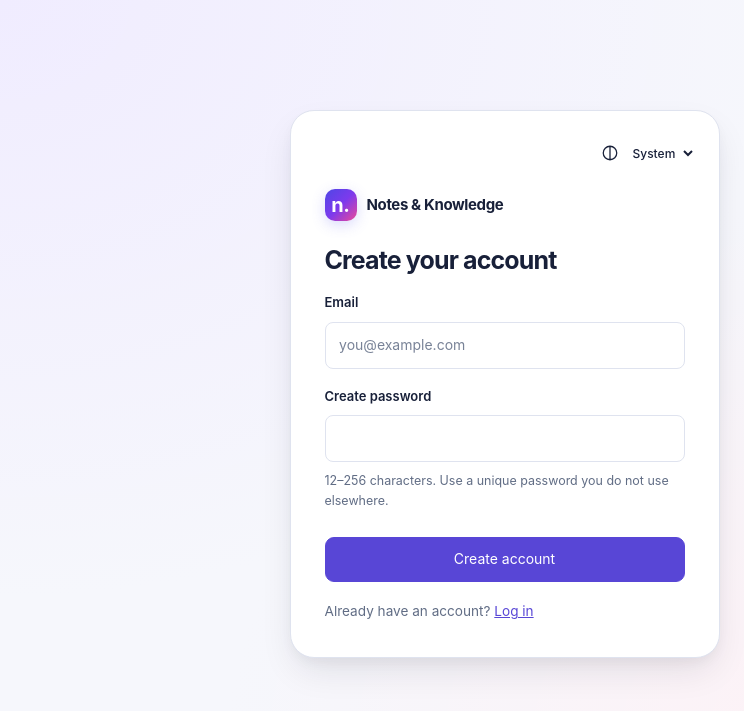
it: authentication browser journey › explains the password policy and blocks a short password before registration
expect the heading "Create your account" is shown: met, box [324,245,556,275]
expect the text "12–256 characters" is shown: met, box [324,473,669,508]
Type "person@example.test" into the field labelled "Email" at (504, 345), box [324,322,684,369]
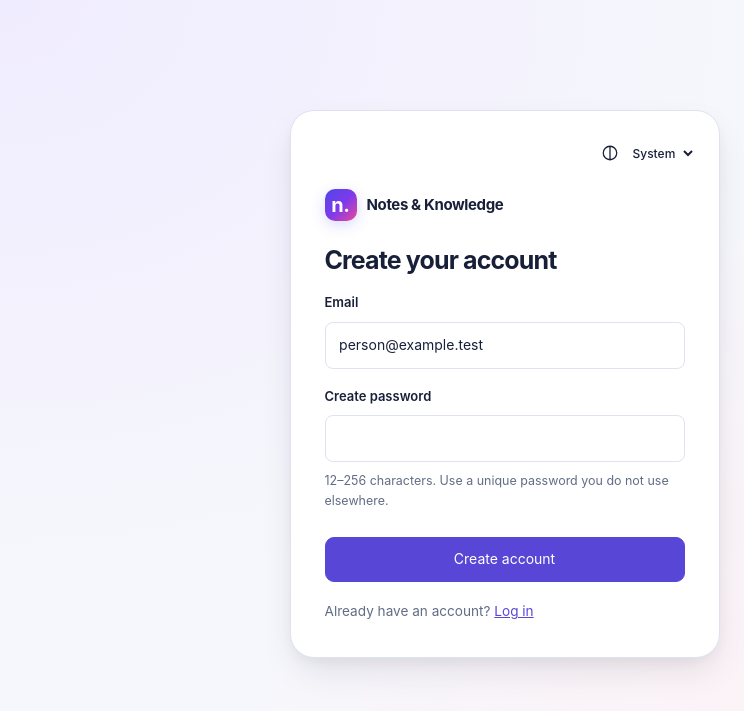
Type "short" into the password field labelled "Create password" at (504, 439), box [324,415,684,462]
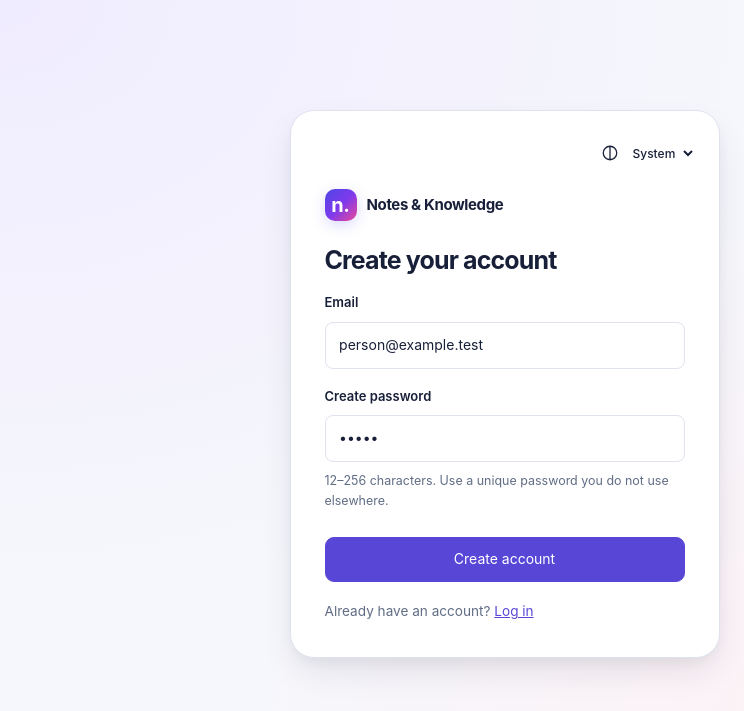
Click the button "Create account" at (504, 559), box [324,537,684,582]
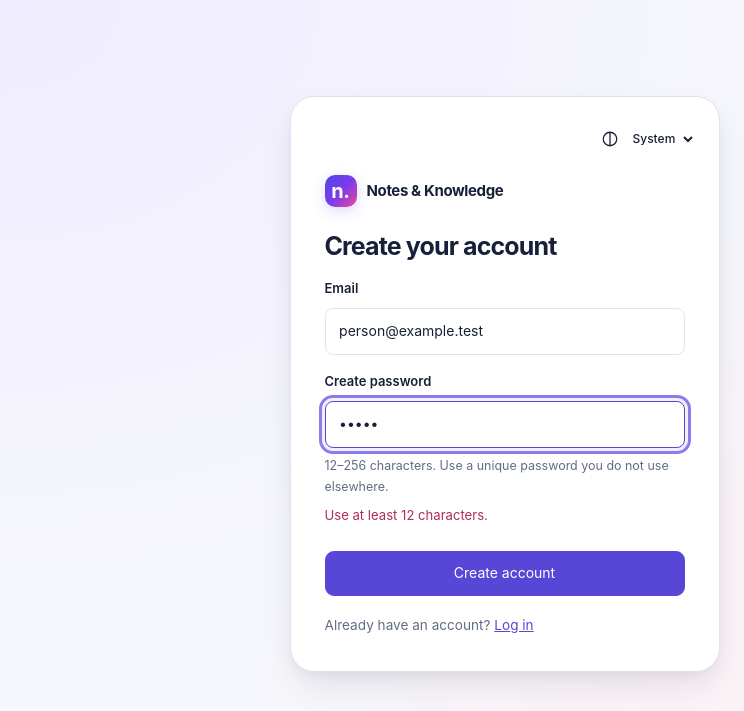
expect the text "Use at least 12 characters." is shown: met, box [324,508,488,524]
